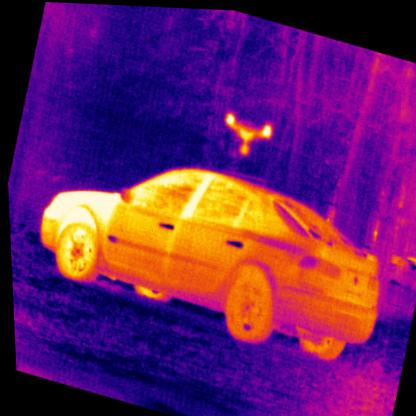drone: (216, 108, 273, 158)
vehicle: (22, 124, 399, 373)
